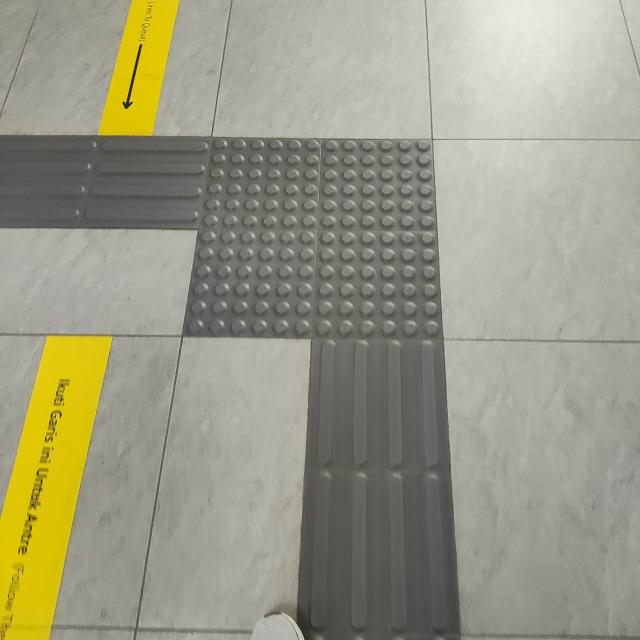kiri: (31, 72, 490, 416)
